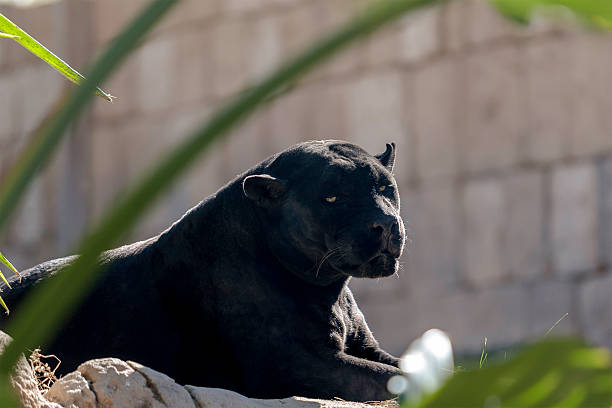panther: (237, 134, 425, 294)
